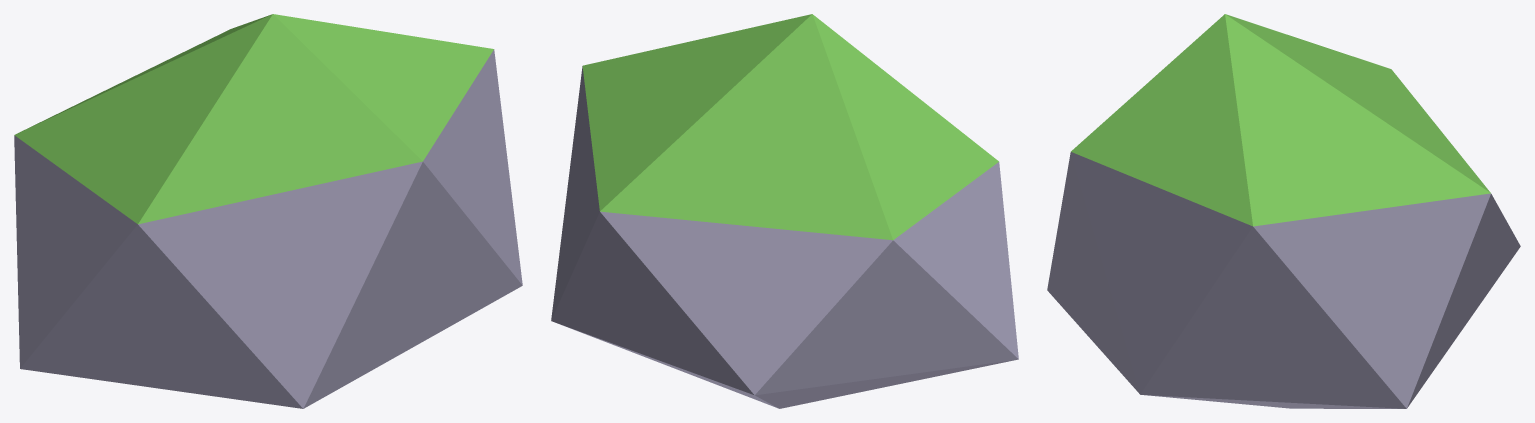
File: rock_b.glb
3 views of the same model, side by side, from view 1: azimuth 30°, elevation 25°; view 2: azimuth 150°, elevation 25°; view 3: azimuth 270°, elevation 25° (orthographic). The views are drawn at different scales.
Parts seen in each view (by area): view 1: rock_b; view 2: rock_b; view 3: rock_b.
Part boxes in pixels (box(x1,y1,x2,y2)): rock_b: box(14, 14, 522, 408); rock_b: box(551, 14, 1018, 408); rock_b: box(1047, 14, 1520, 408).
Size of the model in its own units: 2.13 by 1.73 by 1.89.
